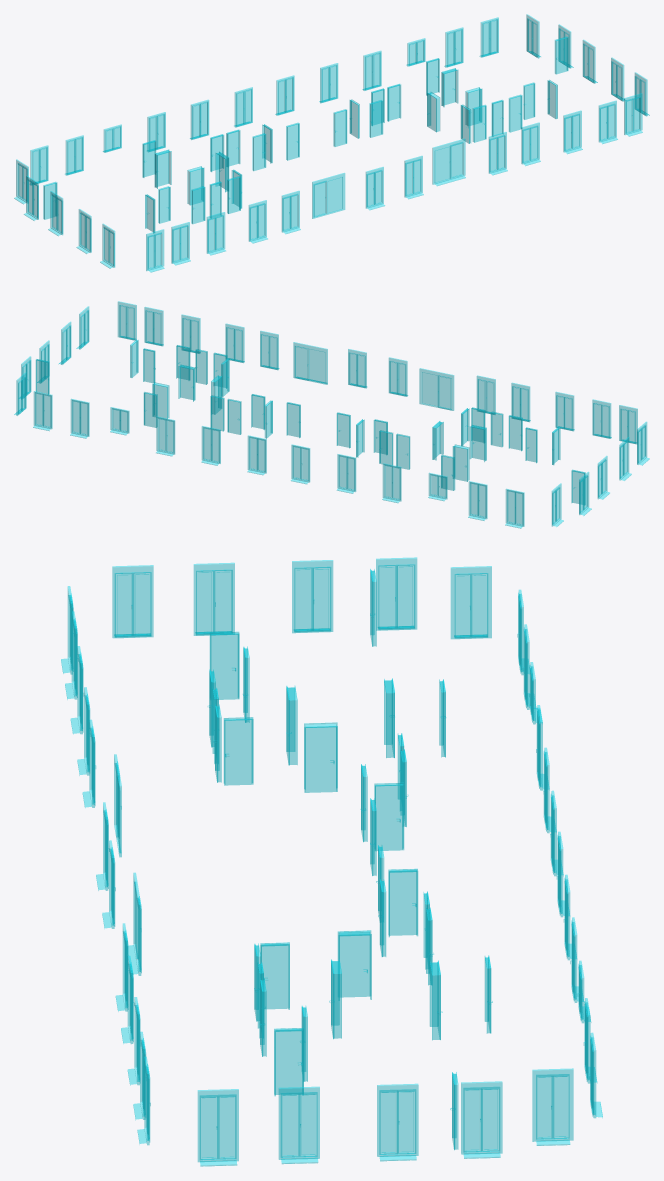
Rendered from Level_01_openings.glb.
3 views of the same model, one above another, from view 1: azimuth 30°, elevation 25°; view 2: azimuth 150°, elevation 25°; view 3: azimuth 270°, elevation 25° (orthographic). The views are drawn at different scales.
Parts seen in each view (by area): view 1: world; view 2: world; view 3: world.
Part boxes in pixels (x1,y1,x2,y2): world: [14, 14, 649, 272]; world: [14, 301, 649, 528]; world: [61, 557, 602, 1166].
Bounding box in the file's own units: 40.19 × 2.52 × 17.06.
